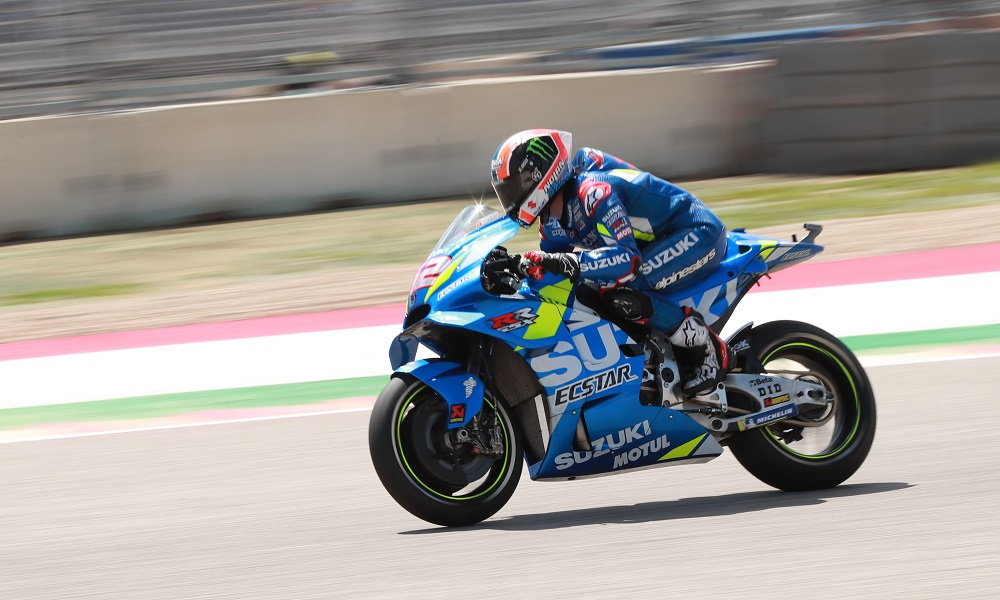helmet: (477, 120, 582, 228)
